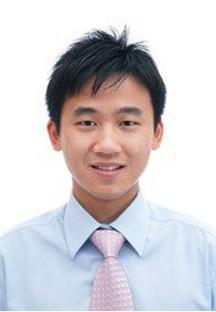Sober: (60, 79, 151, 194)
